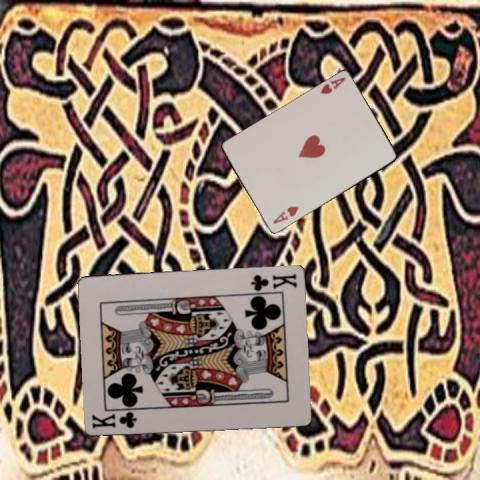Ah: (269, 204, 300, 226), (317, 75, 347, 95)
Kc: (89, 408, 138, 430), (248, 270, 299, 291)
